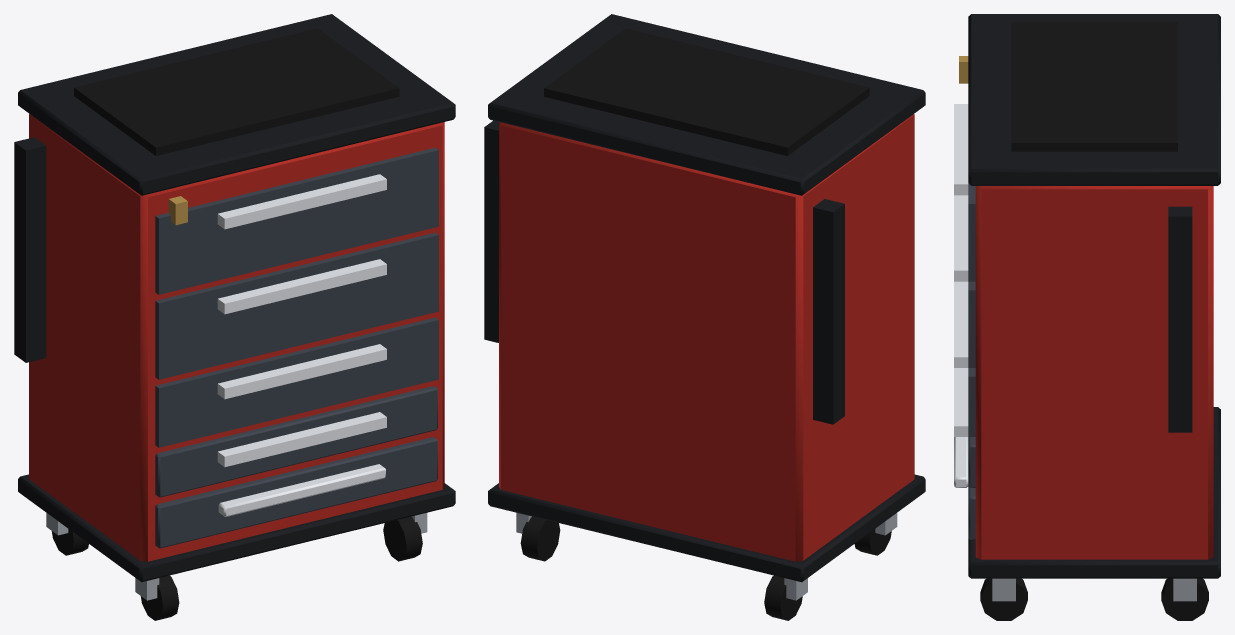
File: storagebin_toolchest_wheels.glb
3 renders of one model, left to right at view 1: azimuth 30°, elevation 25°; view 2: azimuth 150°, elevation 25°; view 3: azimuth 270°, elevation 25°, orthographic.
Visible parts, largest first — view 1: storagebin_toolchest_wheels; view 2: storagebin_toolchest_wheels; view 3: storagebin_toolchest_wheels.
Part boxes in pixels (x1,y1,x2,y2): storagebin_toolchest_wheels: (14, 14, 455, 620); storagebin_toolchest_wheels: (484, 14, 925, 620); storagebin_toolchest_wheels: (954, 14, 1220, 620).
Bounding box in the file's own units: 0.86 × 1.1 × 0.56.
